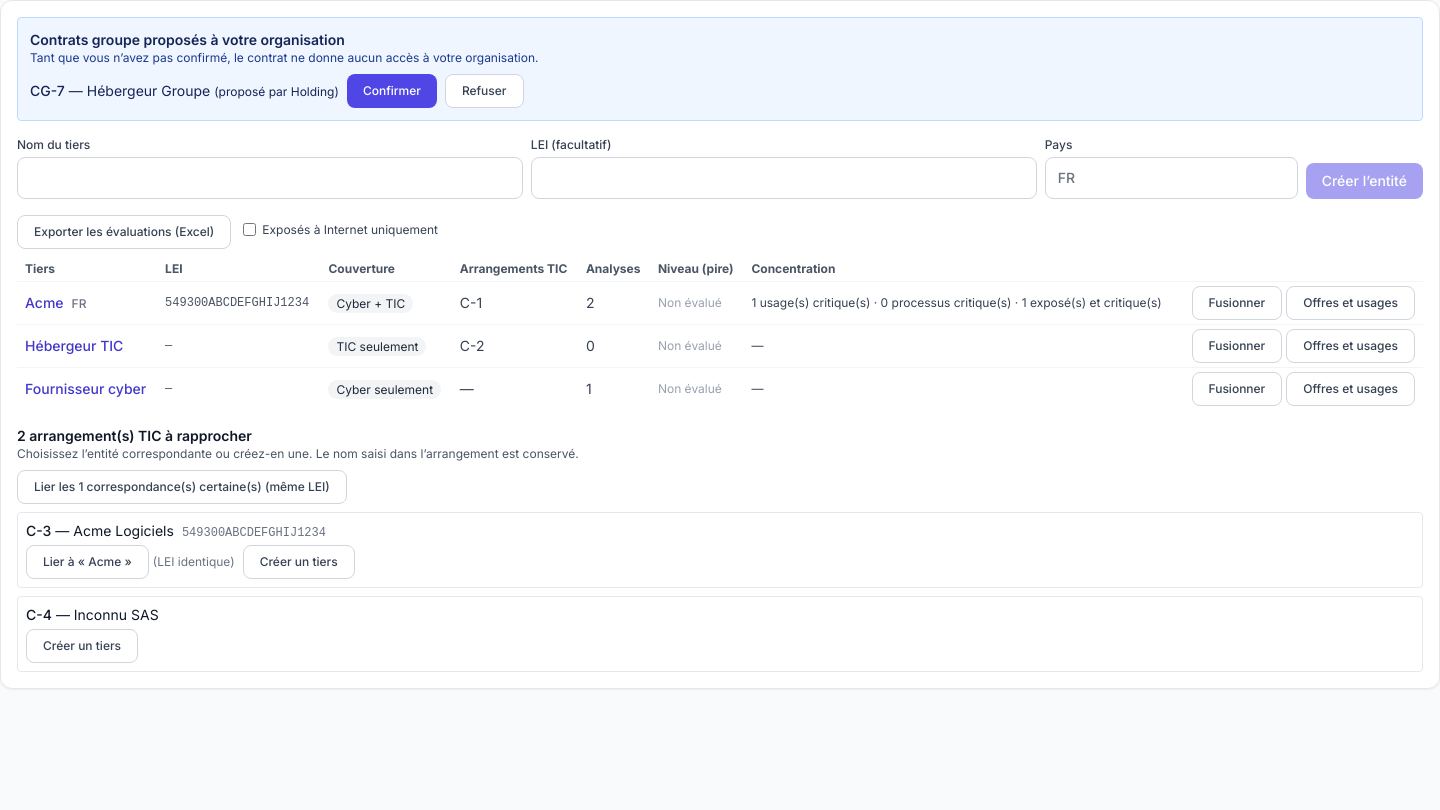
TierIdentityPanel — évaluation des usages (lot T2) › exposition à Internet : filtre « exposés uniquement » ; usages exposés et critiques dans la concentration
The image size is (1440, 810).
Check: the table named "Entités de tiers" is shown, box [17,257,1423,410]
Check: the text "1 exposé(s) et critique(s)" is shown, box [751,295,1162,310]
What coordinates should you click on to do the following:
click the checkbox labelled "Exposés à Internet uniquement"
I would click on:
 (250, 230)
Its box is [243,223,256,236].
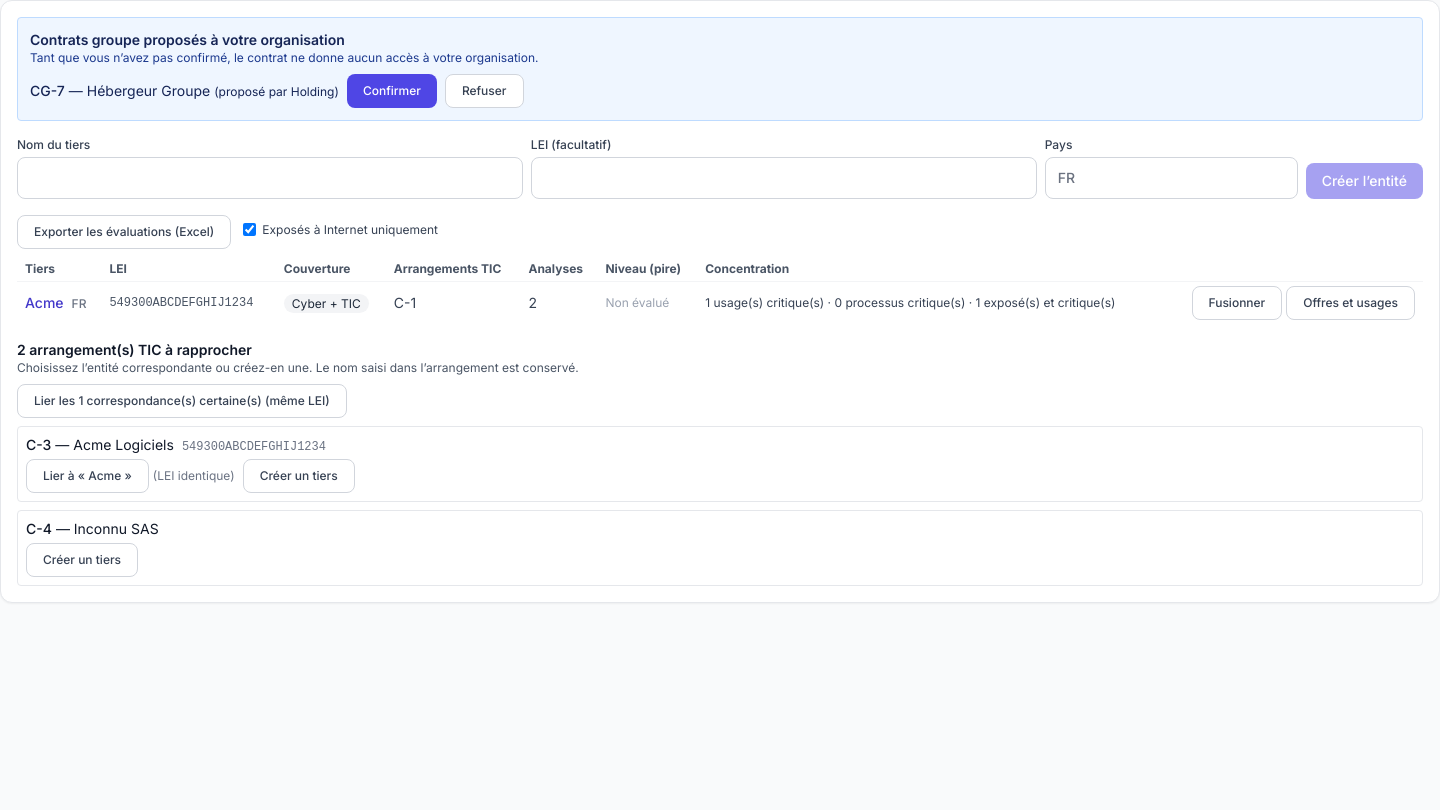
Check: the button "Acme" is shown, box [25,293,64,313]
Check: the button "Hébergeur TIC" is gone
